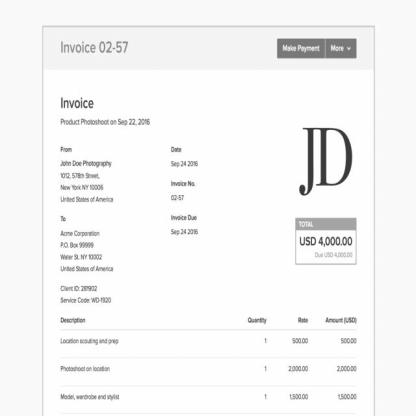Paragraph: (59, 145, 114, 203), (60, 215, 114, 273), (59, 94, 151, 127), (169, 144, 200, 238), (299, 235, 353, 259), (60, 39, 128, 55), (60, 284, 112, 304), (282, 43, 345, 54), (298, 220, 314, 228)
Table: (58, 313, 360, 405)
